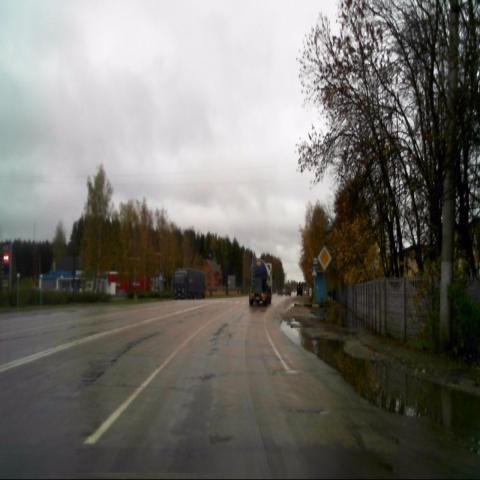2_1: (318, 246, 330, 270)
